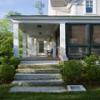stairs: (4, 60, 66, 94), (67, 0, 99, 17)
